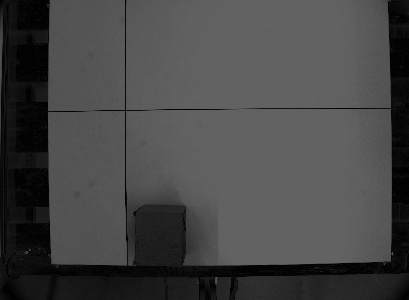b5: (130, 201, 188, 269)
